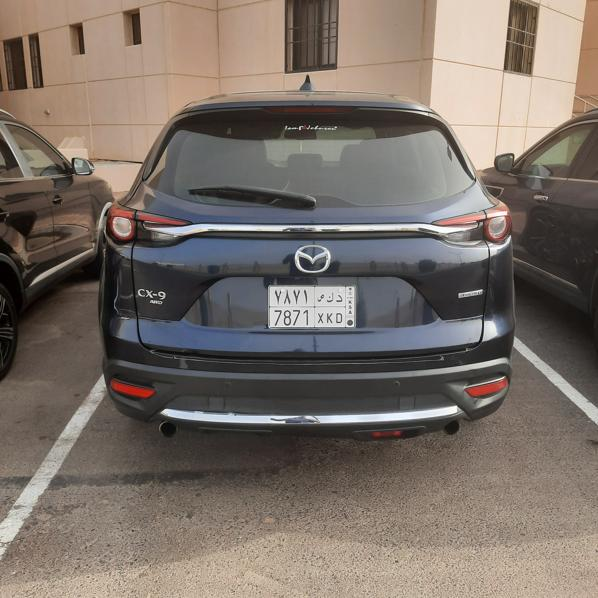numberplate: (268, 285, 356, 328)
